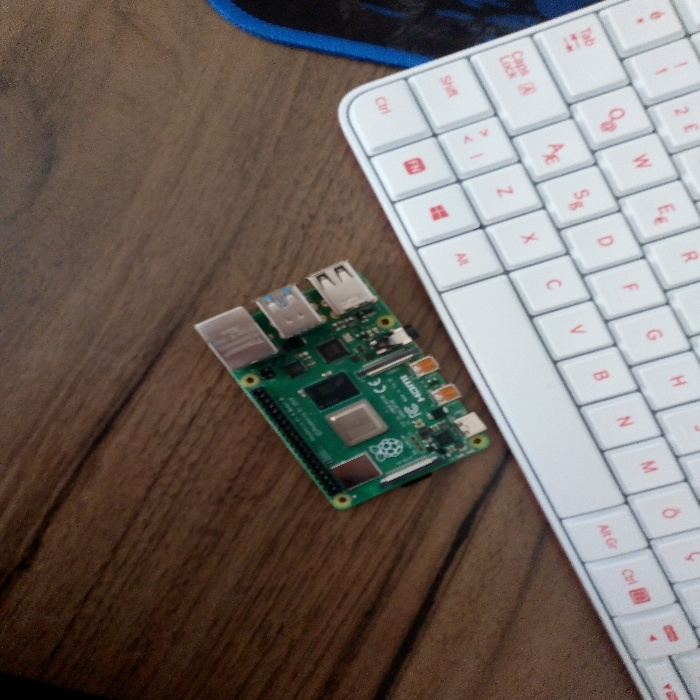raspberry: (179, 247, 488, 523)
